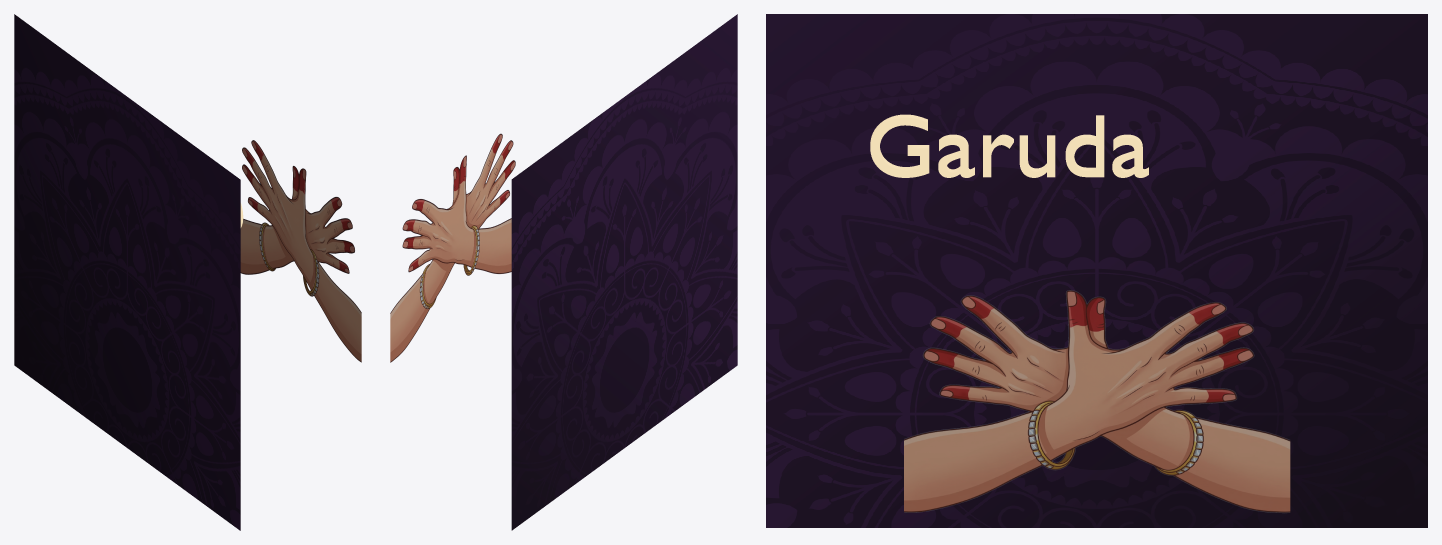
File: Garuda.glb
3 renders of one model, left to right at view 1: azimuth 30°, elevation 25°; view 2: azimuth 150°, elevation 25°; view 3: azimuth 270°, elevation 25°, orthographic. The views are drawn at different scales.
Parts seen in each view (by area): view 1: Plane.018, Anjali.018; view 2: Plane.018, Anjali.018; view 3: Plane.018, Anjali.018, Text.040.
Part boxes in pixels (box(x1,y1,x2,y2)): Plane.018: box(14, 14, 240, 530); Anjali.018: box(240, 140, 361, 362); Plane.018: box(511, 14, 737, 530); Anjali.018: box(390, 133, 515, 362); Plane.018: box(766, 14, 1427, 527); Anjali.018: box(904, 290, 1290, 512); Text.040: box(870, 114, 1148, 177).
Size of the model in its own units: 1.53 by 3.05 by 3.56.
Materials: 3 (2 with a texture image).
